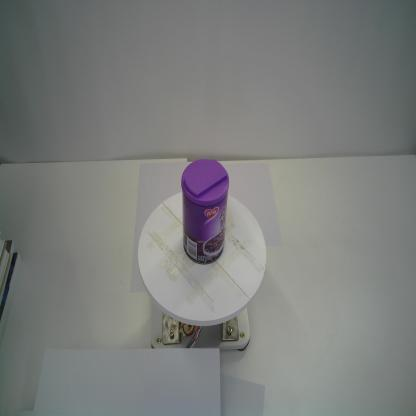Canned Food: (179, 157, 231, 268)
